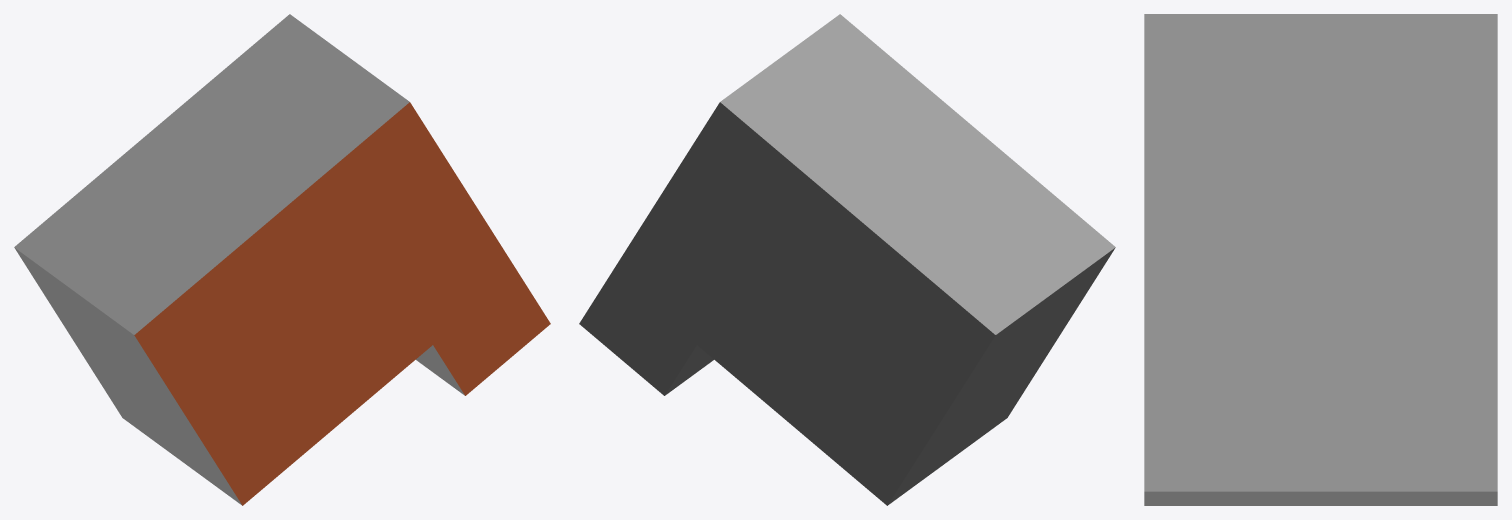
The model's file is construction_6141_assumed_A_Capela_h6m.obj.
3 views of the same model, side by side, from view 1: azimuth 30°, elevation 25°; view 2: azimuth 150°, elevation 25°; view 3: azimuth 270°, elevation 25° (orthographic). The views are drawn at different scales.
Visible parts, largest first — view 1: construction_6141_assumed_A_Capela; view 2: construction_6141_assumed_A_Capela; view 3: construction_6141_assumed_A_Capela.
Part boxes in pixels (<box>): construction_6141_assumed_A_Capela: <box>14,14,550,505</box>; construction_6141_assumed_A_Capela: <box>579,14,1115,505</box>; construction_6141_assumed_A_Capela: <box>1144,14,1497,505</box>.
Size of the model in its own units: 12 by 10 by 6.
